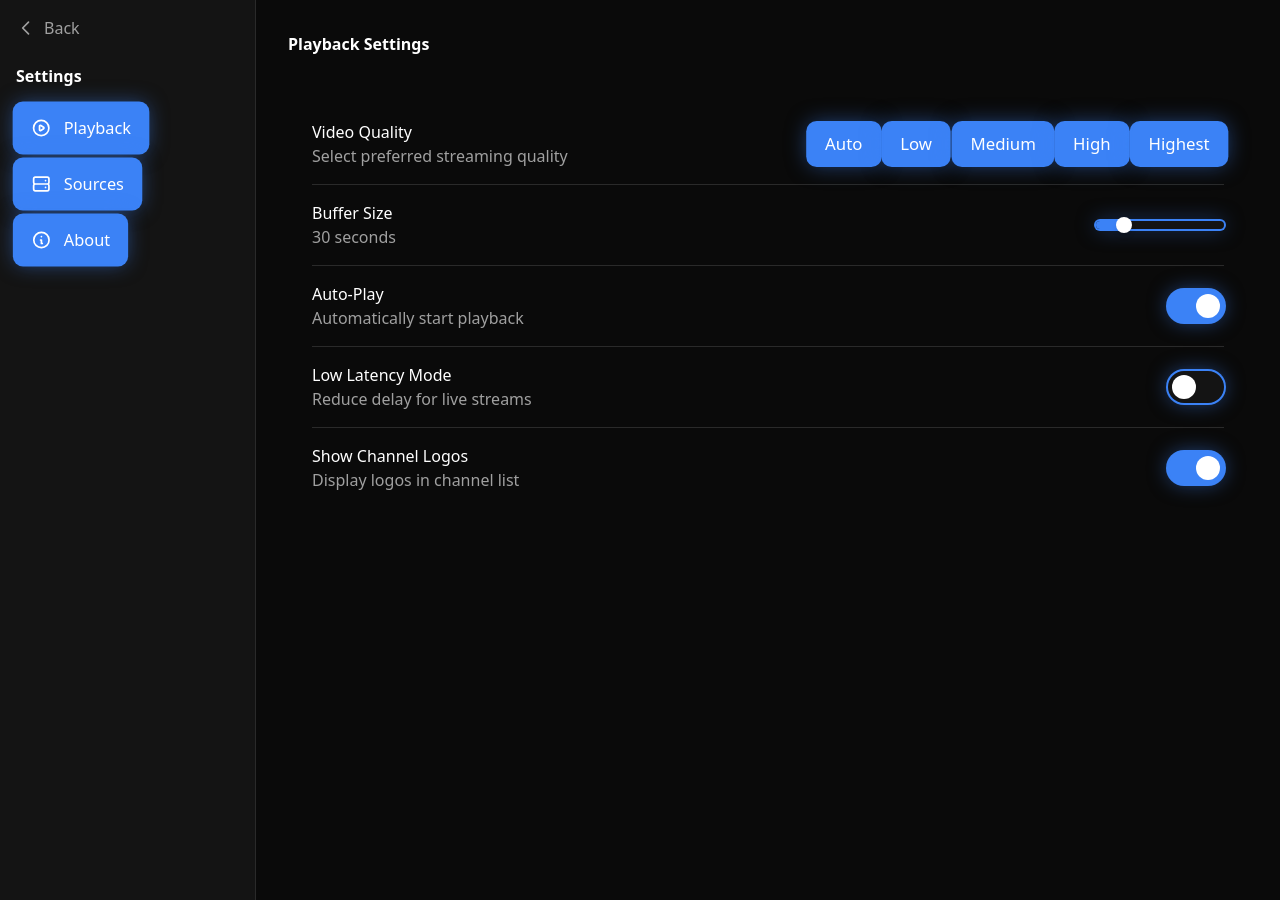
Test: SettingsPage › navigation › should switch to sources section when clicked
Click the button with test id "settings-nav-sources" at (78, 184), box left=15, top=160, right=140, bottom=208
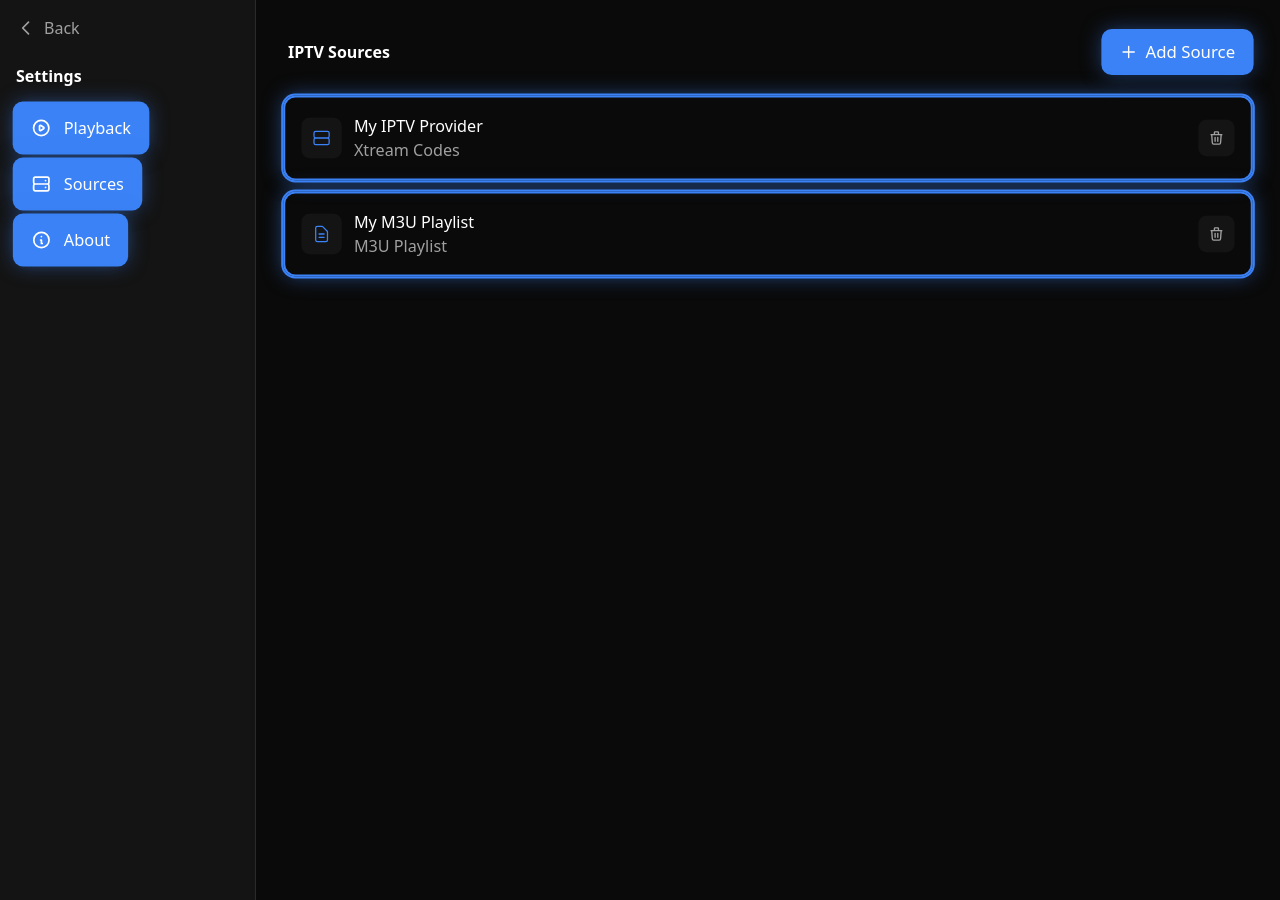
expect the heading "IPTV Sources" is shown: met, box left=288, top=40, right=390, bottom=64
expect the text "My IPTV Provider" is shown: met, box left=354, top=114, right=483, bottom=138
